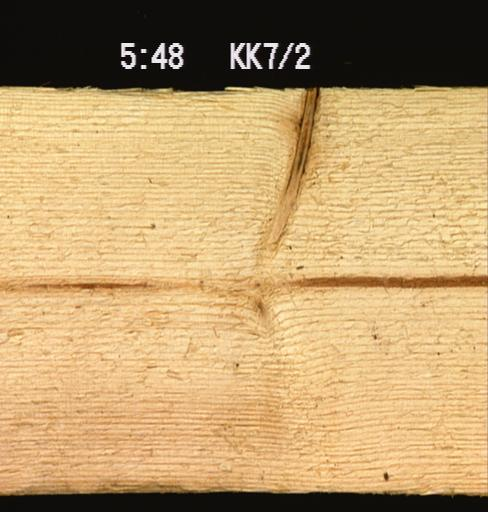dry_knot: (252, 86, 323, 268)
